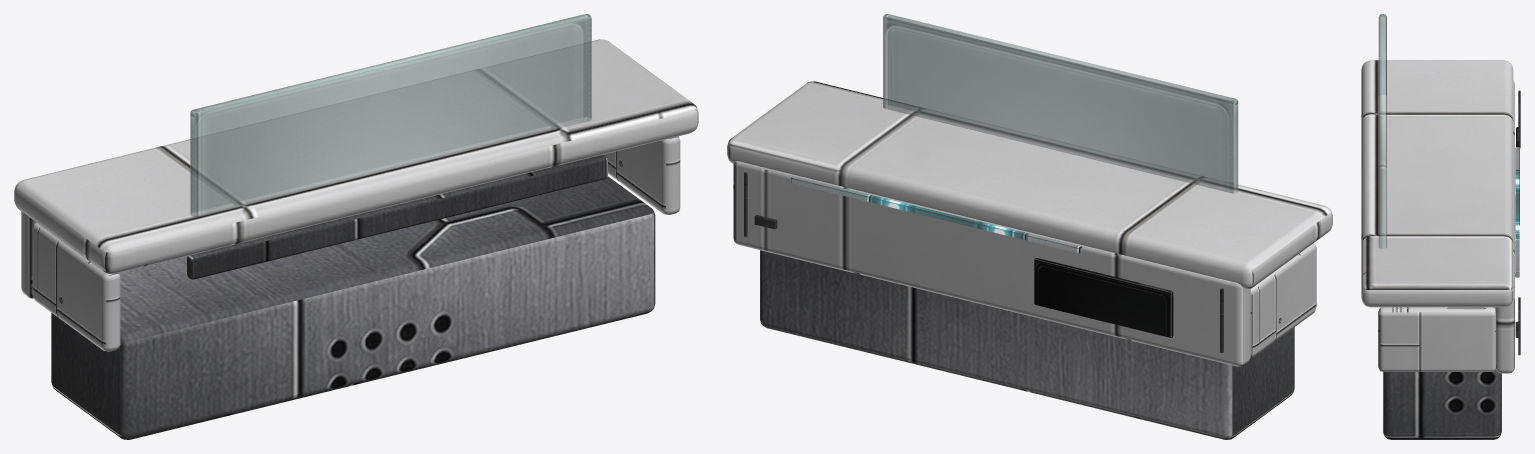
Rendered from hp_l4_cineclinic_reception_counter.glb.
The picture shows the model from 3 angles, left to right: view 1: azimuth 30°, elevation 25°; view 2: azimuth 150°, elevation 25°; view 3: azimuth 270°, elevation 25°; orthographic projection. The views are drawn at different scales.
Visible parts, largest first — view 1: smoked_recess_base, floating_top_counter, frosted_privacy_screen, rear_service_shelf_shadow, left_return_cheek, right_return_cheek, white_front_slab; view 2: floating_top_counter, smoked_recess_base, white_front_slab, frosted_privacy_screen, front_black_glass_inset, left_return_cheek, cyan_triage_rule; view 3: floating_top_counter, smoked_recess_base, right_return_cheek, frosted_privacy_screen, white_front_slab, cyan_triage_rule, front_right_panel_seam.
Boxes of the visible parts, x1,y1,x2,y2 form: smoked_recess_base: [51, 176, 655, 439]; floating_top_counter: [14, 39, 698, 273]; frosted_privacy_screen: [190, 14, 591, 216]; rear_service_shelf_shadow: [187, 155, 607, 279]; left_return_cheek: [32, 222, 120, 351]; right_return_cheek: [603, 136, 680, 214]; white_front_slab: [21, 211, 35, 298]; floating_top_counter: [727, 81, 1332, 288]; smoked_recess_base: [760, 250, 1294, 439]; white_front_slab: [733, 161, 1250, 366]; frosted_privacy_screen: [883, 14, 1238, 193]; front_black_glass_inset: [1034, 258, 1173, 337]; left_return_cheek: [1250, 243, 1316, 357]; cyan_triage_rule: [791, 176, 1082, 253]; floating_top_counter: [1361, 60, 1513, 307]; smoked_recess_base: [1383, 307, 1501, 439]; right_return_cheek: [1378, 307, 1495, 371]; frosted_privacy_screen: [1378, 14, 1386, 248]; white_front_slab: [1495, 81, 1514, 373]; cyan_triage_rule: [1515, 147, 1519, 277]; front_right_panel_seam: [1518, 297, 1520, 355].
Bounding box in the file's own units: 3.28 × 1.67 × 0.963.
6 materials, 6 textured.
